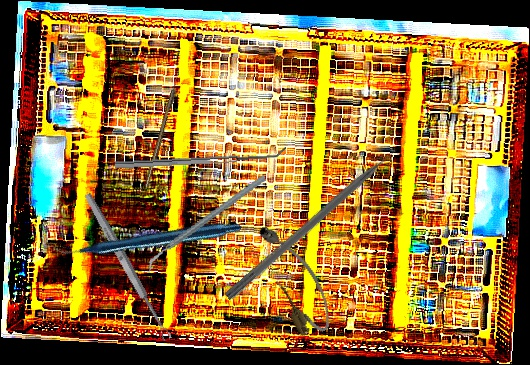Cannula: (251, 215, 339, 342)
Chopper: (131, 173, 281, 274)
Handpiece: (51, 152, 243, 322)
Hook Surgical: (143, 72, 182, 188)
Pusher: (223, 138, 411, 303)
Spatula Surgical: (114, 146, 287, 169)
Surgical Spoon: (82, 191, 173, 343)
